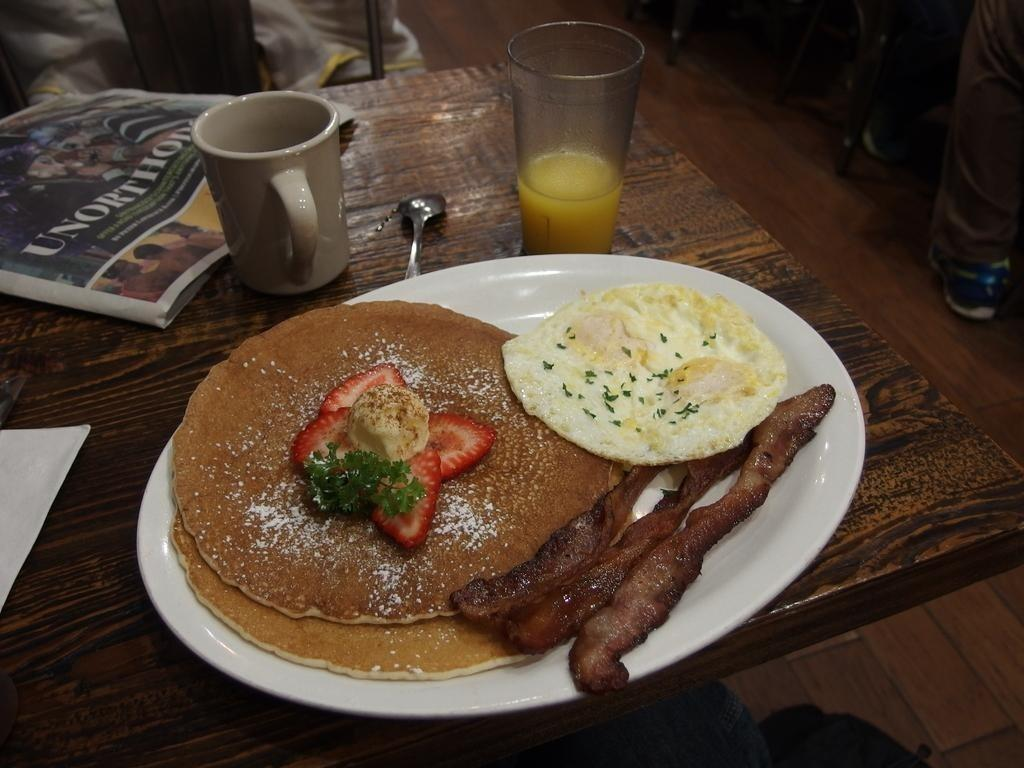cup-handle: (190, 90, 353, 297)
glass-normal: (506, 21, 651, 250)
